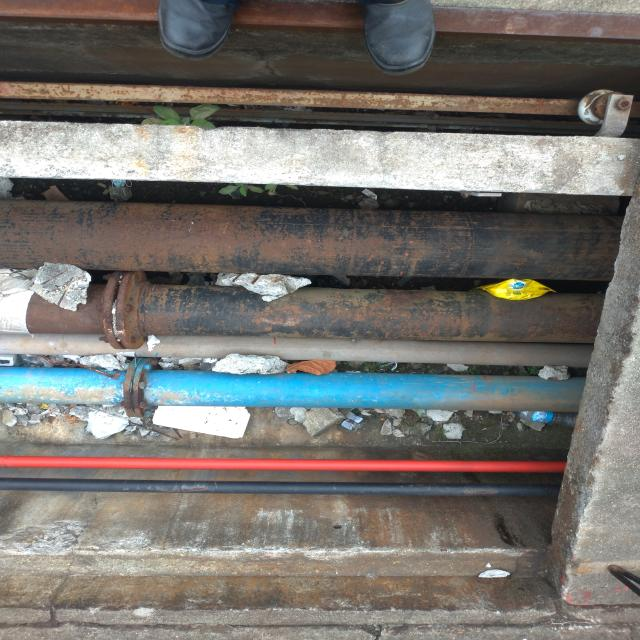gas: (6, 202, 617, 275), (0, 285, 601, 337), (0, 369, 580, 410), (0, 478, 559, 498), (0, 456, 563, 472)
